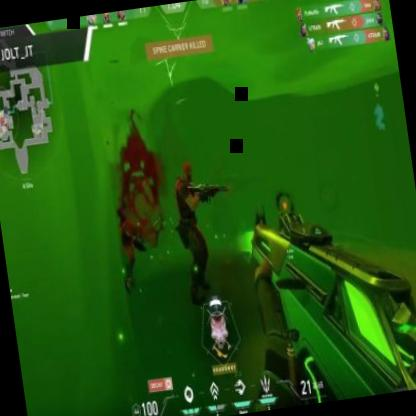enemy: (167, 161, 214, 304)
enemy_head: (180, 161, 194, 184)
